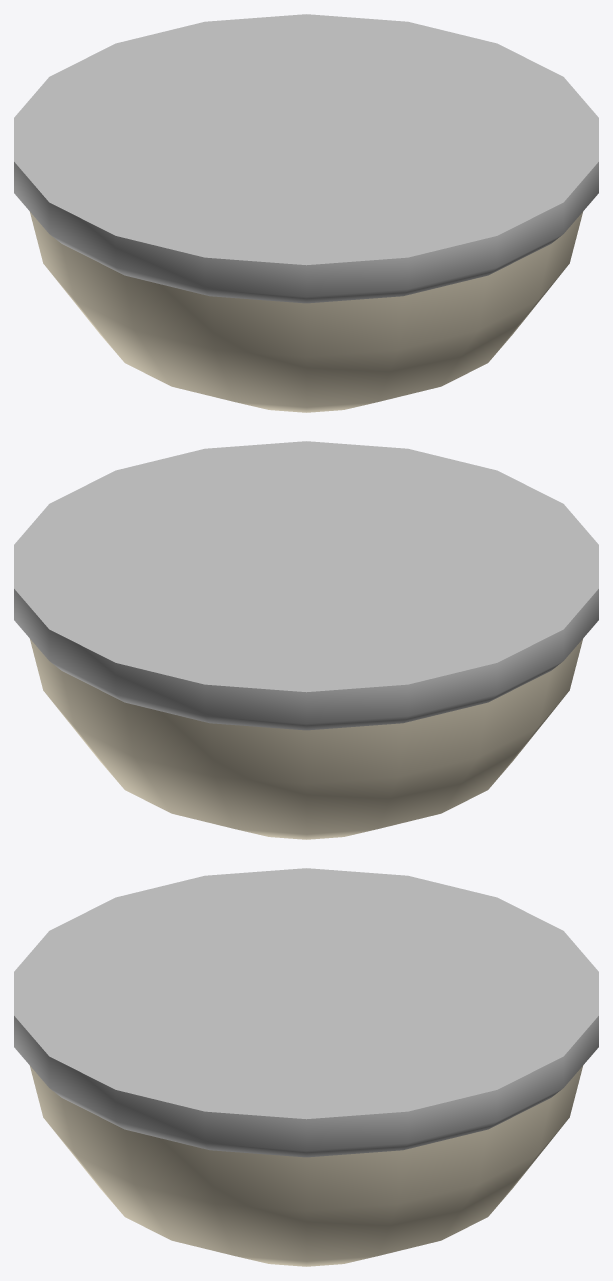
File: roof_light_02.FBX
The picture shows the model from 3 angles, top to bottom: view 1: azimuth 30°, elevation 25°; view 2: azimuth 150°, elevation 25°; view 3: azimuth 270°, elevation 25°; orthographic projection.
Parts seen in each view (by area): view 1: Cylinder006; view 2: Cylinder006; view 3: Cylinder006.
Part boxes in pixels (<box>): Cylinder006: <box>14,14,598,412</box>; Cylinder006: <box>14,441,598,839</box>; Cylinder006: <box>14,868,598,1266</box>.
Size of the model in its own units: 53.55 by 23.89 by 52.74.
